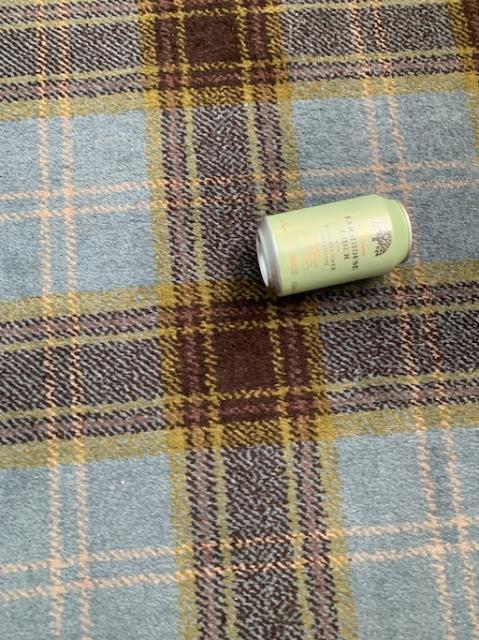metal: (256, 194, 411, 294)
